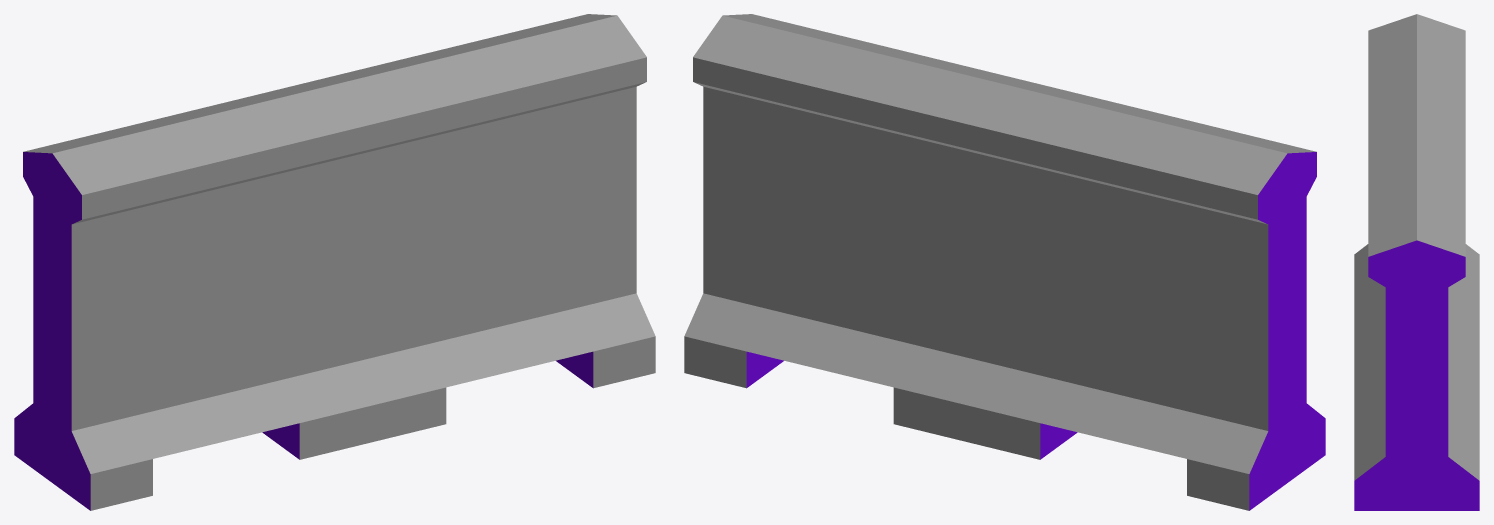
File: Barricade_Concrete_08.fbx
The picture shows the model from 3 angles, left to right: view 1: azimuth 30°, elevation 25°; view 2: azimuth 150°, elevation 25°; view 3: azimuth 270°, elevation 25°; orthographic projection. The views are drawn at different scales.
Parts seen in each view (by area): view 1: Obstacle_Barricade_Concrete_08; view 2: Obstacle_Barricade_Concrete_08; view 3: Obstacle_Barricade_Concrete_08.
Boxes of the visible parts, x1,y1,x2,y2 form: Obstacle_Barricade_Concrete_08: (14, 14, 655, 510); Obstacle_Barricade_Concrete_08: (684, 14, 1325, 510); Obstacle_Barricade_Concrete_08: (1354, 14, 1479, 510).
Bounding box in the file's own units: 135 × 75.39 × 31.6.
Materials: 1 (1 with a texture image).
